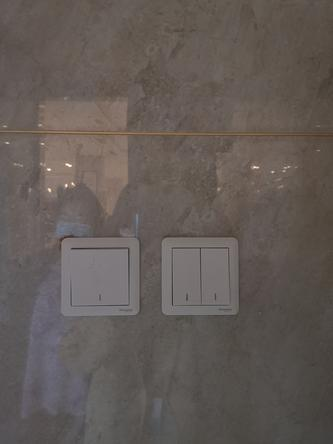switch: (65, 244, 136, 310), (196, 244, 237, 308), (168, 245, 205, 309)
